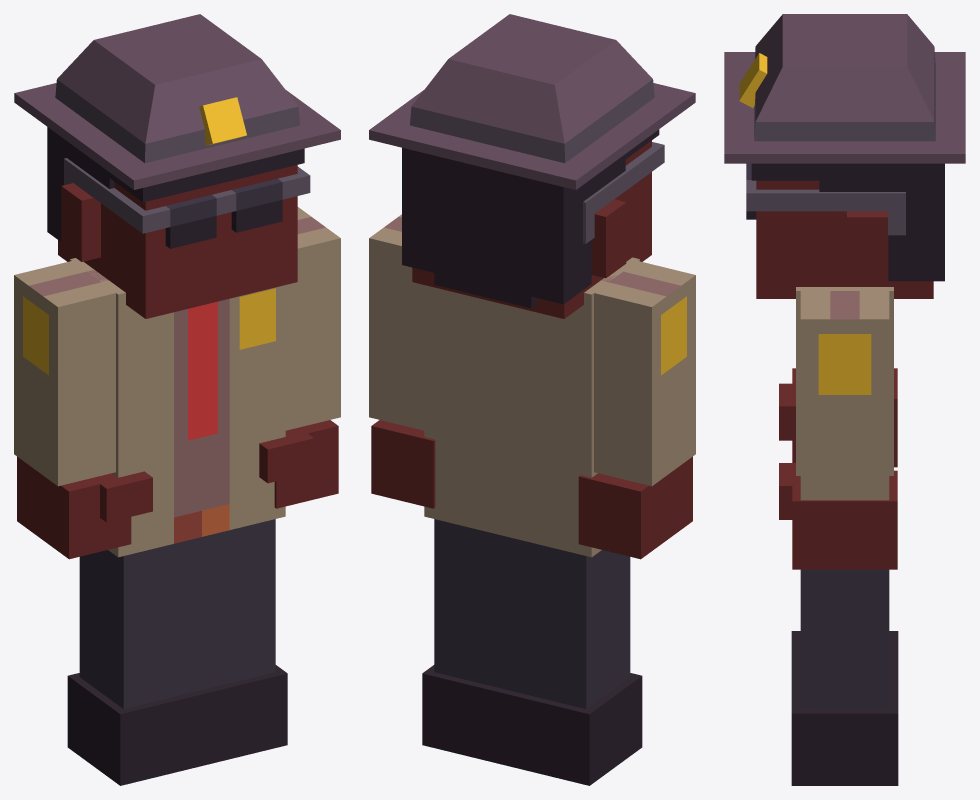
Rendered from Sheriff_Cosmetics.fbx.
3 views of the same model, side by side, from view 1: azimuth 30°, elevation 25°; view 2: azimuth 150°, elevation 25°; view 3: azimuth 270°, elevation 25° (orthographic).
Visible parts, largest first — view 1: Sheriff_Coat, Sheriff_Hat, Sheriff_Leg_R, Sheriff_Sleeve_R, Sheriff_Head, Sheriff_Leg_L, Sheriff_Sleeve_L, Sheriff_Arm_R, Sheriff_Glasses, Sheriff_Arm_R.001, Sheriff_Hair; view 2: Sheriff_Coat, Sheriff_Hat, Sheriff_Leg_R, Sheriff_Hair, Sheriff_Sleeve_R, Sheriff_Leg_L, Sheriff_Sleeve_L, Sheriff_Arm_R, Sheriff_Head, Sheriff_Arm_R.001, Sheriff_Glasses; view 3: Sheriff_Hat, Sheriff_Leg_L, Sheriff_Sleeve_L, Sheriff_Head, Sheriff_Hair, Sheriff_Arm_R.001, Sheriff_Glasses, Sheriff_Coat, Sheriff_Arm_R, Sheriff_Leg_R.
Part boxes in pixels (x1,y1,x2,y2): Sheriff_Coat: (70, 258, 285, 557); Sheriff_Hat: (14, 14, 340, 189); Sheriff_Leg_R: (67, 537, 210, 785); Sheriff_Sleeve_R: (14, 259, 115, 486); Sheriff_Head: (58, 165, 297, 318); Sheriff_Leg_L: (192, 519, 287, 767); Sheriff_Sleeve_L: (285, 207, 340, 430); Sheriff_Arm_R: (17, 456, 152, 559); Sheriff_Glasses: (64, 158, 310, 248); Sheriff_Arm_R.001: (259, 420, 338, 508); Sheriff_Hair: (47, 127, 304, 241); Sheriff_Coat: (424, 257, 639, 557); Sheriff_Hat: (369, 14, 695, 189); Sheriff_Leg_R: (498, 537, 642, 785); Sheriff_Hair: (402, 129, 659, 308); Sheriff_Sleeve_R: (586, 261, 695, 486); Sheriff_Leg_L: (422, 519, 517, 763); Sheriff_Sleeve_L: (369, 214, 424, 430); Sheriff_Arm_R: (578, 456, 692, 559); Sheriff_Head: (412, 140, 651, 318); Sheriff_Arm_R.001: (371, 420, 435, 508); Sheriff_Glasses: (583, 142, 664, 243); Sheriff_Hat: (724, 14, 965, 163); Sheriff_Leg_L: (791, 569, 898, 785); Sheriff_Sleeve_L: (800, 291, 889, 500); Sheriff_Head: (756, 180, 933, 298); Sheriff_Hair: (751, 163, 944, 281); Sheriff_Arm_R.001: (779, 463, 897, 569); Sheriff_Glasses: (746, 163, 905, 235); Sheriff_Coat: (796, 287, 893, 475); Sheriff_Arm_R: (779, 368, 897, 467); Sheriff_Leg_R: (791, 631, 898, 670).
Bounding box in the file's own units: 149 × 109 × 350.
